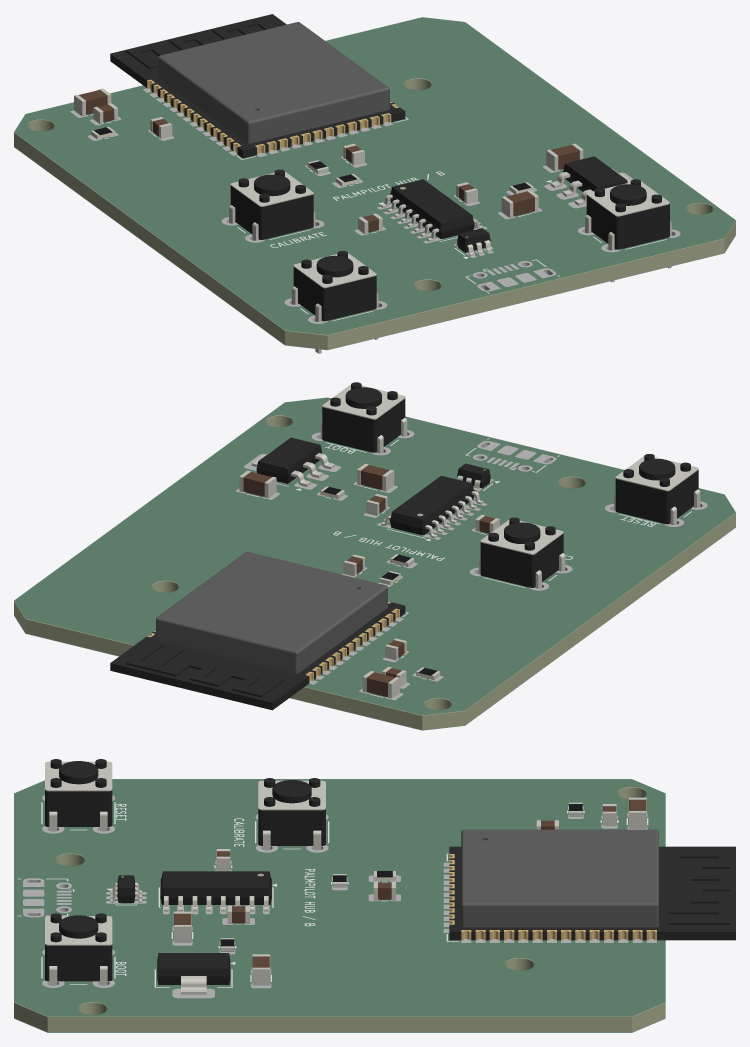
Rendered from carrier.glb.
3 views of the same model, one above another, from view 1: azimuth 30°, elevation 25°; view 2: azimuth 150°, elevation 25°; view 3: azimuth 270°, elevation 25° (orthographic). The views are drawn at different scales.
Parts seen in each view (by area): view 1: =>[0:1:1:22], =>[0:1:1:20], =>[0:1:1:17], =>[0:1:1:5] (×3), =>[0:1:1:18], =>[0:1:1:11], =>[0:1:1:13] (×3), =>[0:1:1:9], =>[0:1:1:19], =>[0:1:1:21], =>[0:1:1:15]; view 2: =>[0:1:1:22], =>[0:1:1:20], =>[0:1:1:17], =>[0:1:1:5] (×3), =>[0:1:1:18], =>[0:1:1:11], =>[0:1:1:13] (×3), =>[0:1:1:9], =>[0:1:1:19], =>[0:1:1:15], =>[0:1:1:21]; view 3: =>[0:1:1:22], =>[0:1:1:20], =>[0:1:1:17], =>[0:1:1:5] (×3), =>[0:1:1:18], =>[0:1:1:11], =>[0:1:1:9], =>[0:1:1:13] (×3), =>[0:1:1:19], =>[0:1:1:15], =>[0:1:1:21].
Boxes of the visible parts, x1,y1,x2,y2 form: =>[0:1:1:22]: [14, 18, 735, 349]; =>[0:1:1:20]: [14, 17, 735, 334]; =>[0:1:1:17]: [110, 14, 405, 158]; =>[0:1:1:5] (×3): [229, 169, 671, 353]; =>[0:1:1:18]: [70, 88, 680, 323]; =>[0:1:1:11]: [381, 179, 483, 241]; =>[0:1:1:13] (×3): [74, 88, 583, 217]; =>[0:1:1:9]: [550, 156, 630, 205]; =>[0:1:1:19]: [90, 114, 666, 321]; =>[0:1:1:21]: [14, 147, 735, 350]; =>[0:1:1:15]: [456, 228, 491, 255]; =>[0:1:1:22]: [14, 398, 735, 730]; =>[0:1:1:20]: [14, 397, 735, 715]; =>[0:1:1:17]: [110, 551, 405, 710]; =>[0:1:1:5] (×3): [320, 382, 700, 588]; =>[0:1:1:18]: [236, 430, 707, 700]; =>[0:1:1:11]: [381, 476, 483, 538]; =>[0:1:1:13] (×3): [239, 463, 399, 698]; =>[0:1:1:9]: [251, 437, 334, 486]; =>[0:1:1:19]: [246, 438, 691, 697]; =>[0:1:1:15]: [457, 463, 491, 491]; =>[0:1:1:21]: [14, 527, 735, 730]; =>[0:1:1:22]: [14, 780, 665, 1032]; =>[0:1:1:20]: [14, 779, 665, 1016]; =>[0:1:1:17]: [449, 829, 735, 940]; =>[0:1:1:5] (×3): [45, 759, 325, 985]; =>[0:1:1:18]: [23, 795, 656, 998]; =>[0:1:1:11]: [160, 871, 271, 911]; =>[0:1:1:9]: [157, 953, 230, 994]; =>[0:1:1:13] (×3): [173, 797, 646, 985]; =>[0:1:1:19]: [17, 802, 648, 987]; =>[0:1:1:15]: [110, 875, 141, 902]; =>[0:1:1:21]: [14, 1018, 665, 1032].
Size of the model in its own units: 0.05 by 0.0078 by 0.0642.
